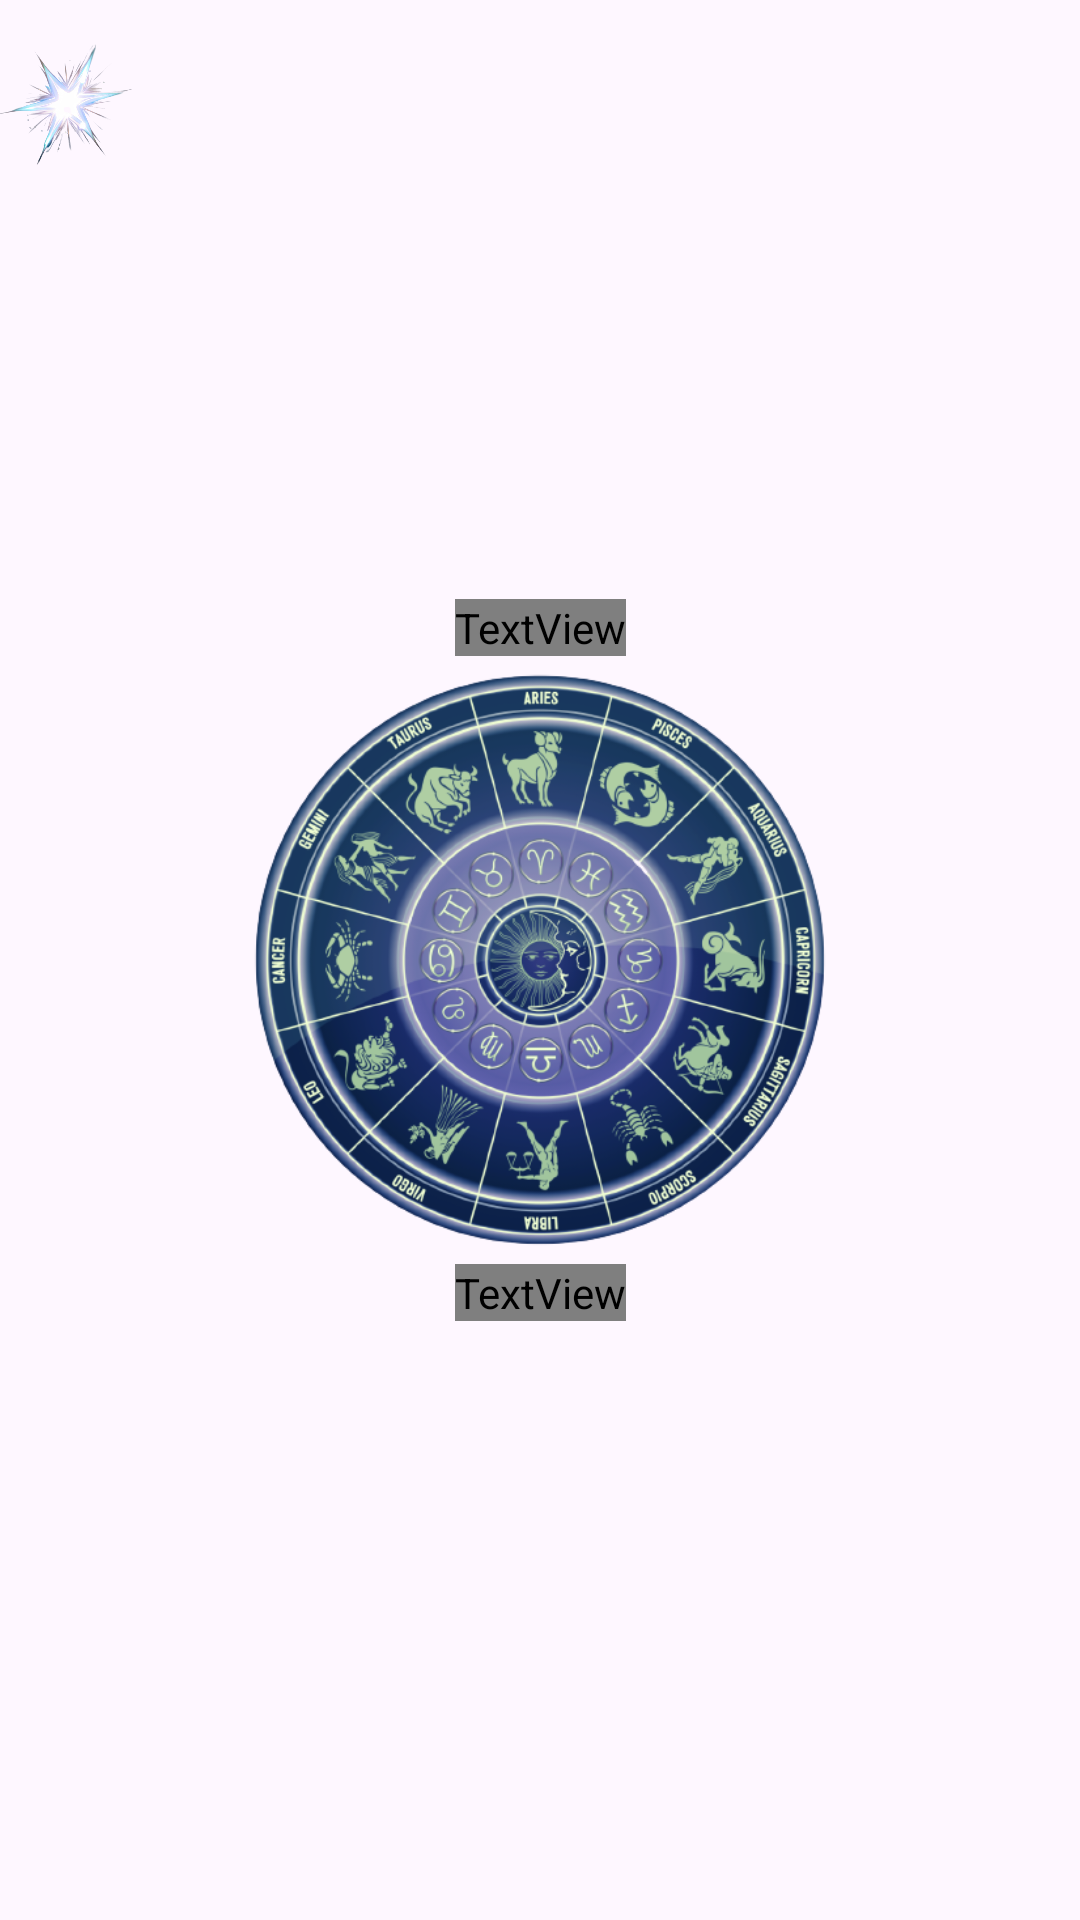

Point at icon controls on the screen. Image size 1080*1920, points as [x,y].
Star Image: [66,105]
